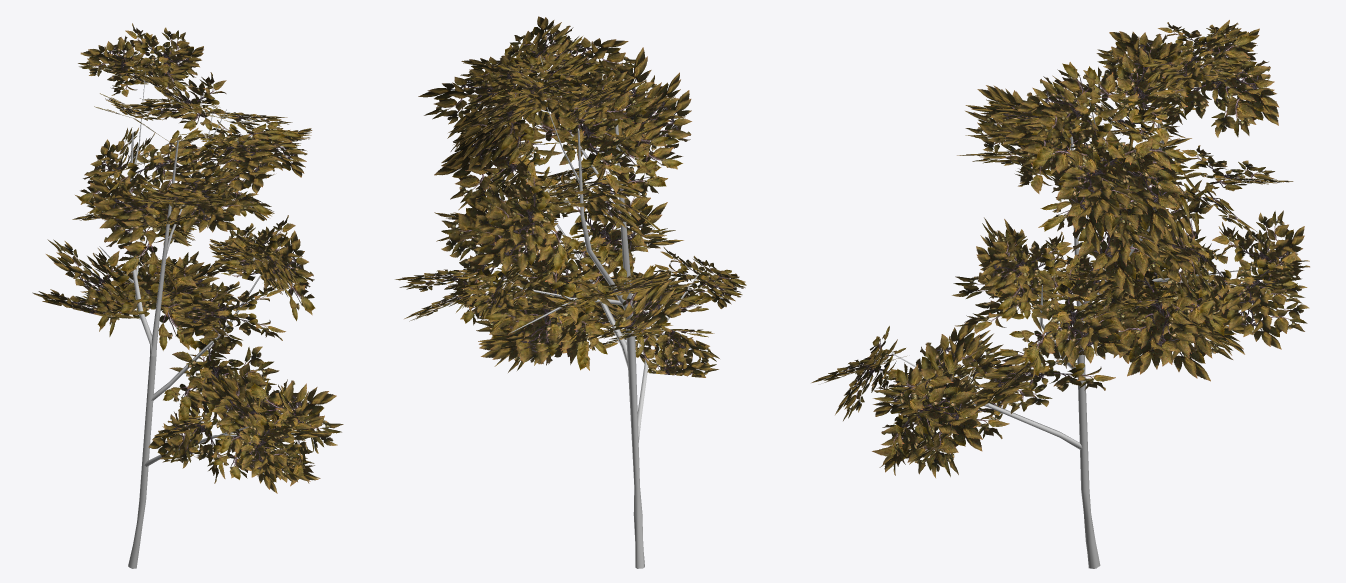
File: shrub_hazel_02_autumn.DAE
The picture shows the model from 3 angles, left to right: view 1: azimuth 30°, elevation 25°; view 2: azimuth 150°, elevation 25°; view 3: azimuth 270°, elevation 25°; orthographic projection. The views are drawn at different scales.
Parts seen in each view (by area): view 1: shrub_hazel02_CommonHazelLeaves_1, shrub_hazel02_CommonHazelBark; view 2: shrub_hazel02_CommonHazelLeaves_1, shrub_hazel02_CommonHazelBark; view 3: shrub_hazel02_CommonHazelLeaves_1, shrub_hazel02_CommonHazelBark.
Part boxes in pixels (x1=…): shrub_hazel02_CommonHazelLeaves_1: x1=32, y1=23, x2=343, y2=493; shrub_hazel02_CommonHazelBark: x1=99, y1=71, x2=294, y2=568; shrub_hazel02_CommonHazelLeaves_1: x1=395, y1=16, x2=746, y2=377; shrub_hazel02_CommonHazelBark: x1=493, y1=55, x2=699, y2=568; shrub_hazel02_CommonHazelLeaves_1: x1=811, y1=20, x2=1309, y2=477; shrub_hazel02_CommonHazelBark: x1=891, y1=71, x2=1253, y2=568.
Bounding box in the file's own units: 2 × 3.44 × 2.84.
